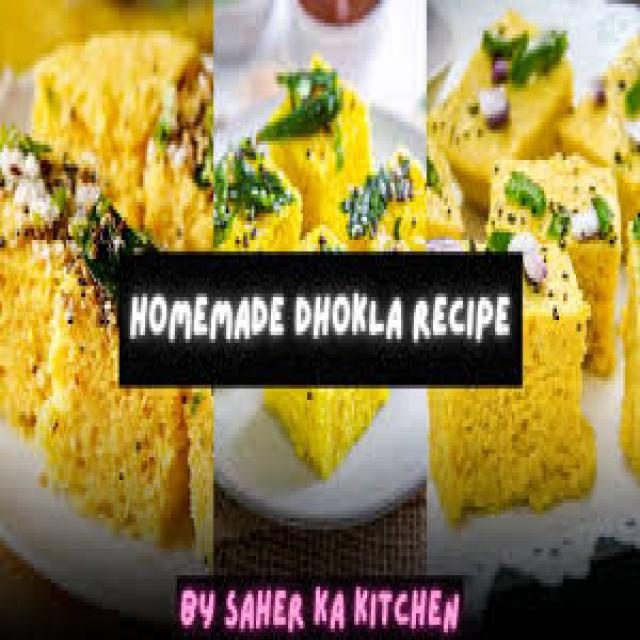DHOKLA: (0, 30, 211, 556), (429, 11, 638, 522)
